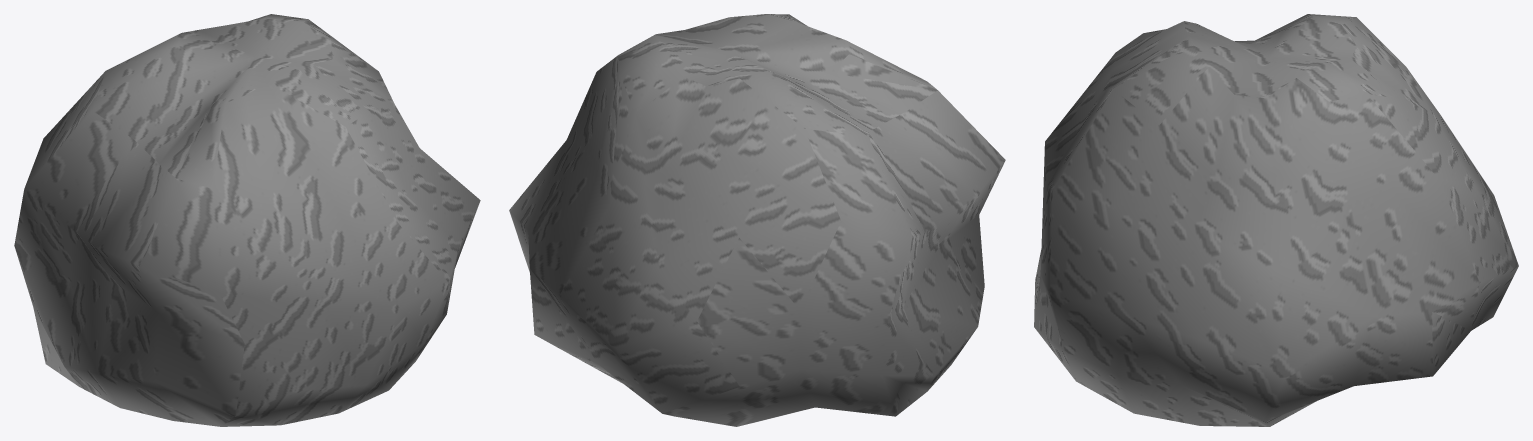
Rendered from stone_medium.FBX.
The picture shows the model from 3 angles, left to right: view 1: azimuth 30°, elevation 25°; view 2: azimuth 150°, elevation 25°; view 3: azimuth 270°, elevation 25°; orthographic projection. The views are drawn at different scales.
Parts seen in each view (by area): view 1: Sphere001; view 2: Sphere001; view 3: Sphere001.
Boxes of the visible parts, bbox=[...] form: Sphere001: bbox=[14, 14, 480, 426]; Sphere001: bbox=[509, 14, 1005, 426]; Sphere001: bbox=[1034, 14, 1518, 426].
Bounding box in the file's own units: 59.9 × 41.42 × 57.44.
Materials: 1 (1 with a texture image).
